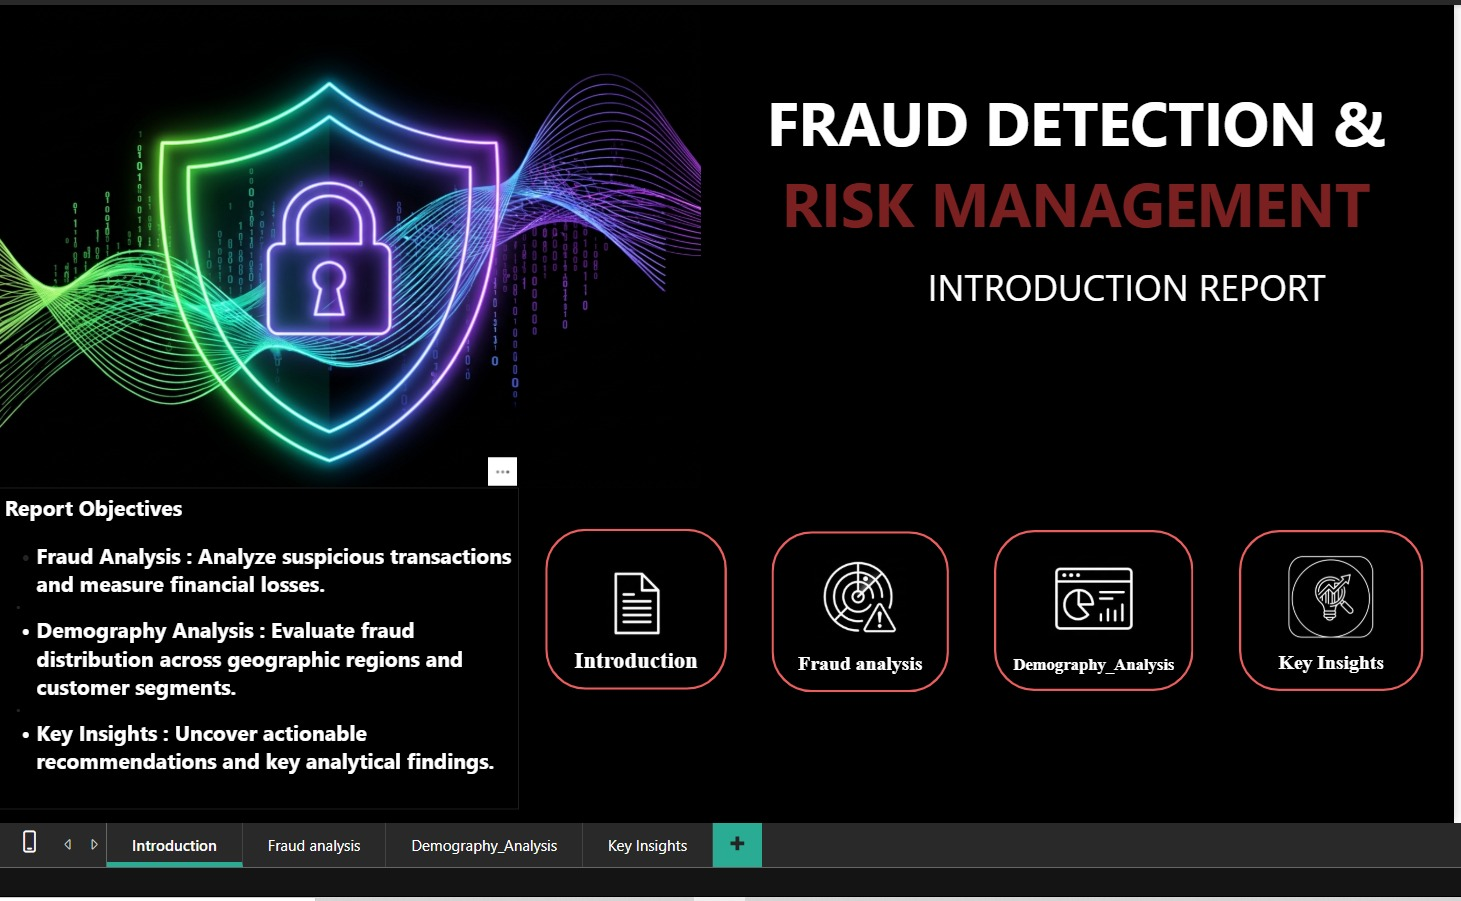

The page's visual inventory and layout, read from the dashboard file:
{"tool":"powerbi","page":{"name":"Introduction","canvas":[1280,720],"ordinal":0},"visuals":[{"type":"textbox","box":[628.2,61.7,639.1,363.1],"z":0},{"type":"image","box":[0,3.6,617.4,421.3],"z":1000},{"type":"actionButton","box":[480.6,461.2,159.8,141.6],"z":2000},{"type":"actionButton","box":[679.9,462.4,156.2,141.6],"z":3000},{"type":"actionButton","box":[875.6,461.6,175.5,141.6],"z":4000},{"type":"actionButton","box":[1090.7,462,162.2,141.6],"z":5000},{"type":"image","box":[531.4,496.7,58.1,60.5],"z":6000},{"type":"image","box":[921.7,485,84.7,71.4],"z":6001},{"type":"image","box":[710.6,486.2,93.2,71.4],"z":6002},{"type":"image","box":[1127,483,88.4,77.5],"z":6003},{"type":"textbox","box":[0,424.9,457.6,283.3],"z":6004}]}

Visuals, with their boxes on the page's 1280x720 design canvas (x1, y1, x2, y2). These are canvas units, not pixel positions in the 1461x901 screenshot, which may show the page scaled, cropped or inside an application window:
textbox: <box>628,62,1267,425</box>
image: <box>0,4,617,425</box>
actionButton: <box>481,461,640,603</box>
actionButton: <box>680,462,836,604</box>
actionButton: <box>876,462,1051,603</box>
actionButton: <box>1091,462,1253,604</box>
image: <box>531,497,590,557</box>
image: <box>922,485,1006,556</box>
image: <box>711,486,804,558</box>
image: <box>1127,483,1215,560</box>
textbox: <box>0,425,458,708</box>
